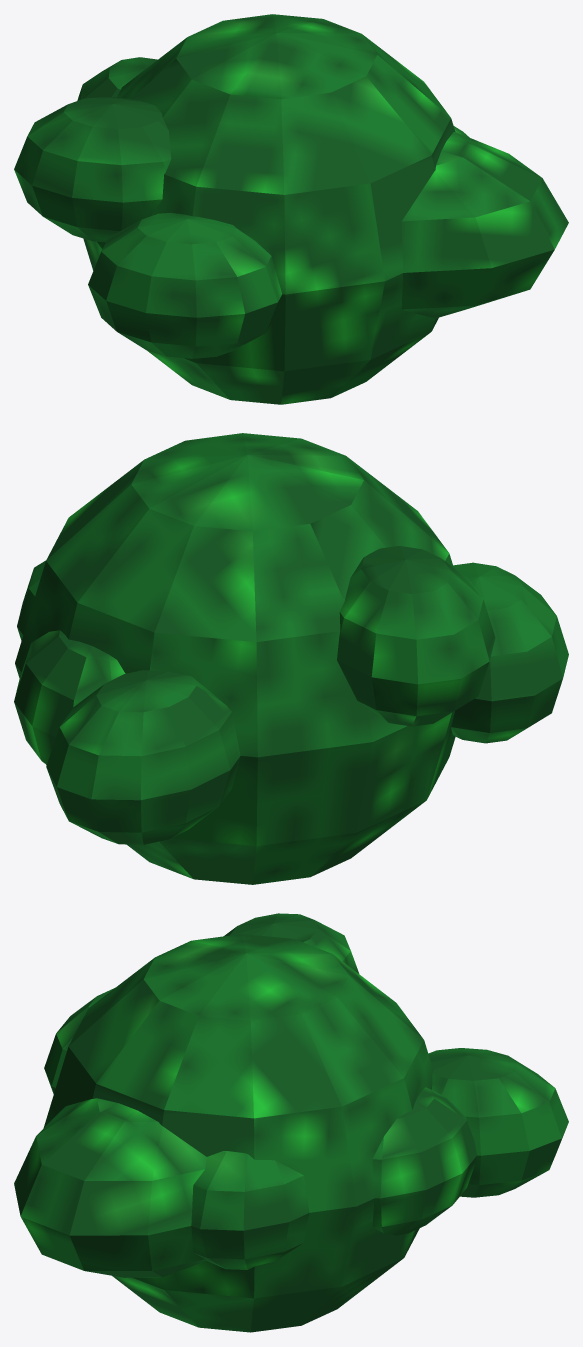
Rendered from Bush2.obj.
3 renders of one model, top to bottom at view 1: azimuth 30°, elevation 25°; view 2: azimuth 150°, elevation 25°; view 3: azimuth 270°, elevation 25°, orthographic. The views are drawn at different scales.
Visible parts, largest first — view 1: sphere; view 2: sphere; view 3: sphere.
Part boxes in pixels (<box>): sphere: <box>14,14,568,404</box>; sphere: <box>14,433,568,884</box>; sphere: <box>14,913,568,1332</box>.
Bounding box in the file's own units: 1.28 × 1 × 1.4.
Materials: 1 (1 with a texture image).
